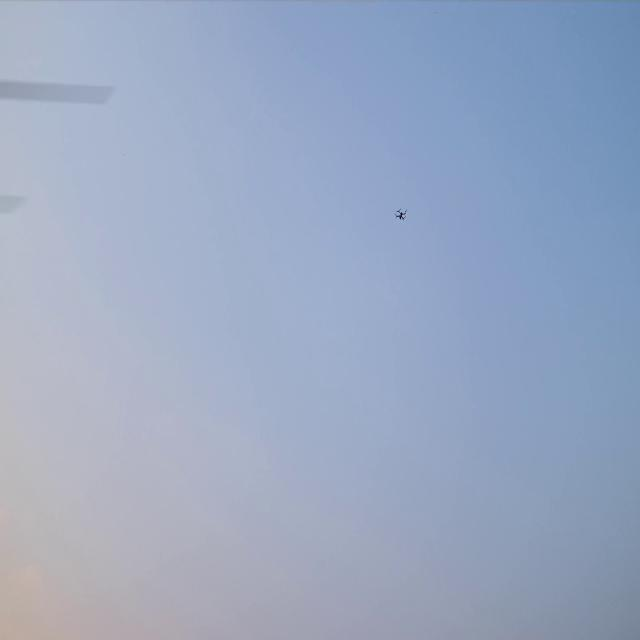UAV: (396, 210, 406, 219)
